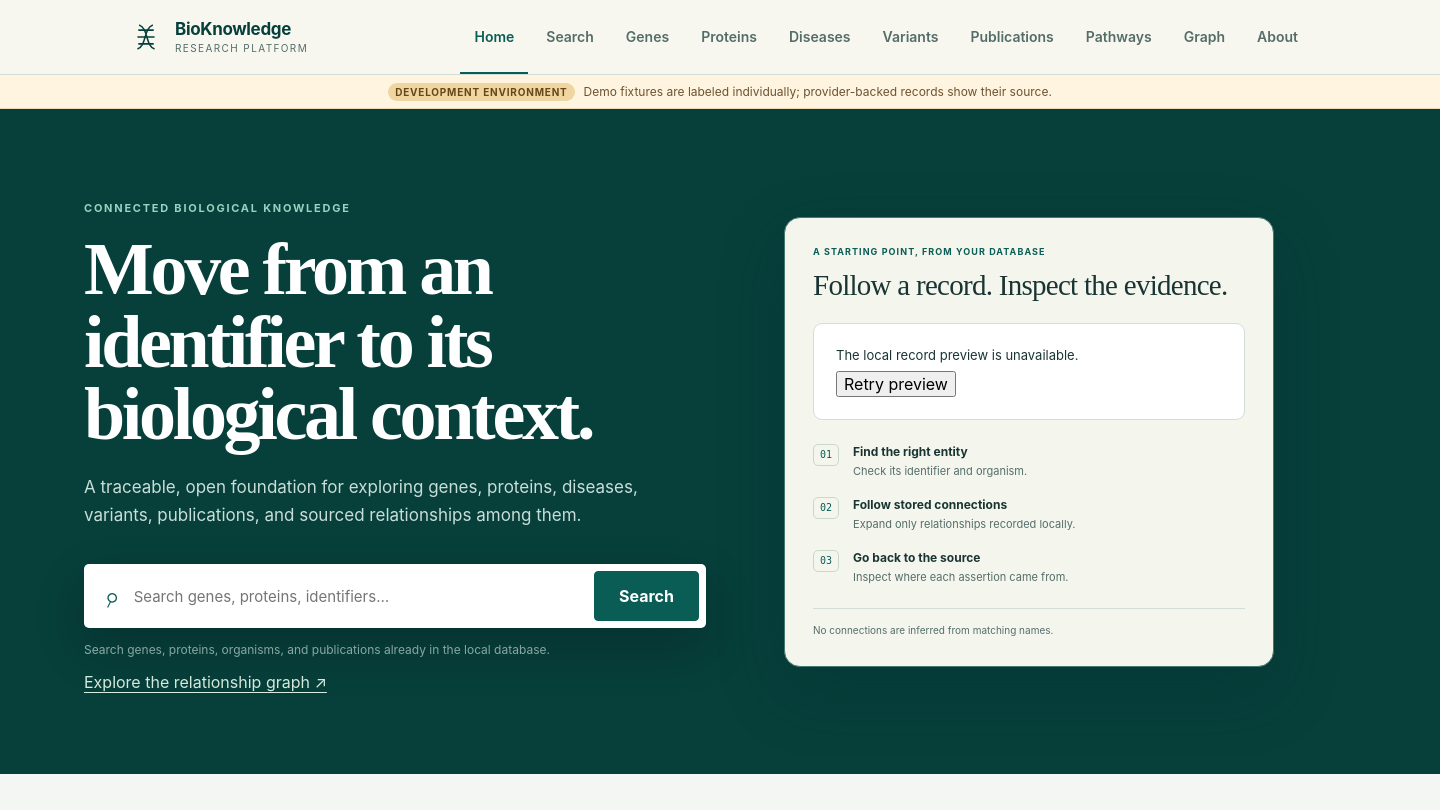
it: homepage handles unavailable preview with retry and an honest empty database
The width and height of the screenshot is (1440, 810).
Check: the text "The local record preview is unavailable." is shown, box [836, 347, 1078, 363]
Step 1. Click the button "Retry preview" → coordinates (896, 384), box [836, 370, 956, 396]
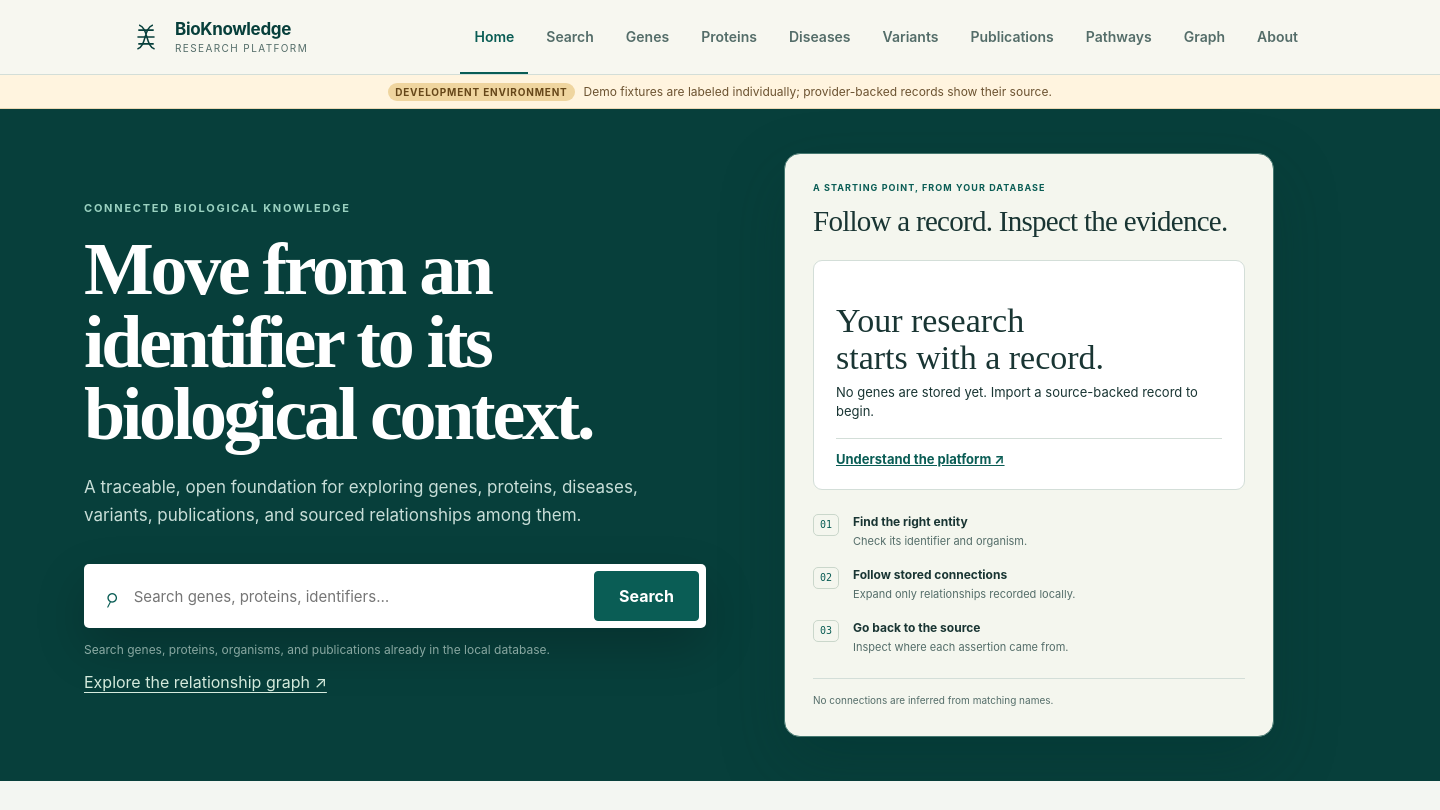
Check: the text "No genes are stored yet. Import a source-backed record to begin." is shown, box [836, 383, 1222, 422]
